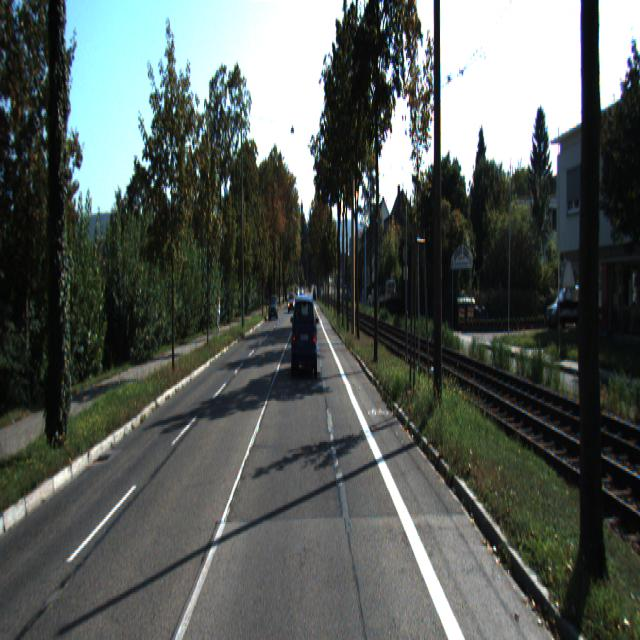Car: (291, 292, 318, 380), (268, 295, 278, 321)
